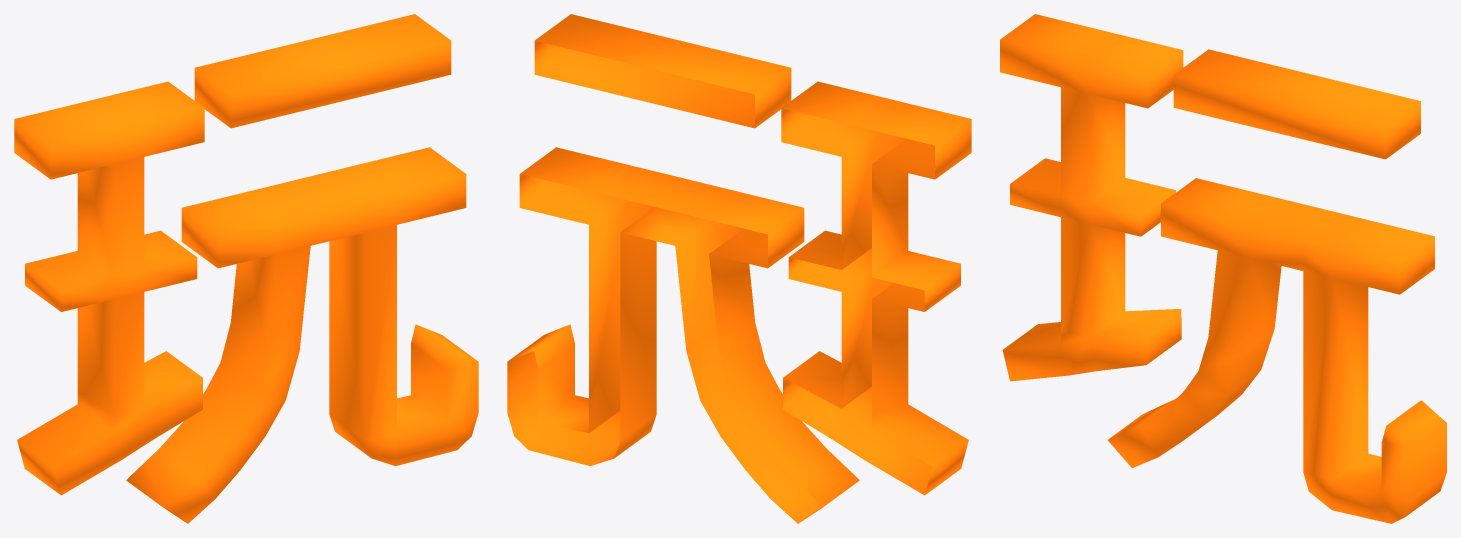
File: Play.glb
The picture shows the model from 3 angles, left to right: view 1: azimuth 30°, elevation 25°; view 2: azimuth 150°, elevation 25°; view 3: azimuth 330°, elevation 25°; orthographic projection. The views are drawn at different scales.
Visible parts, largest first — view 1: Play; view 2: Play; view 3: Play.
Boxes of the visible parts, x1=… form: Play: x1=14, y1=14, x2=478, y2=523; Play: x1=507, y1=14, x2=971, y2=523; Play: x1=1000, y1=14, x2=1446, y2=523.
Size of the model in its own units: 0.4497 by 0.421 by 0.0664.
1 material, 1 textured.
